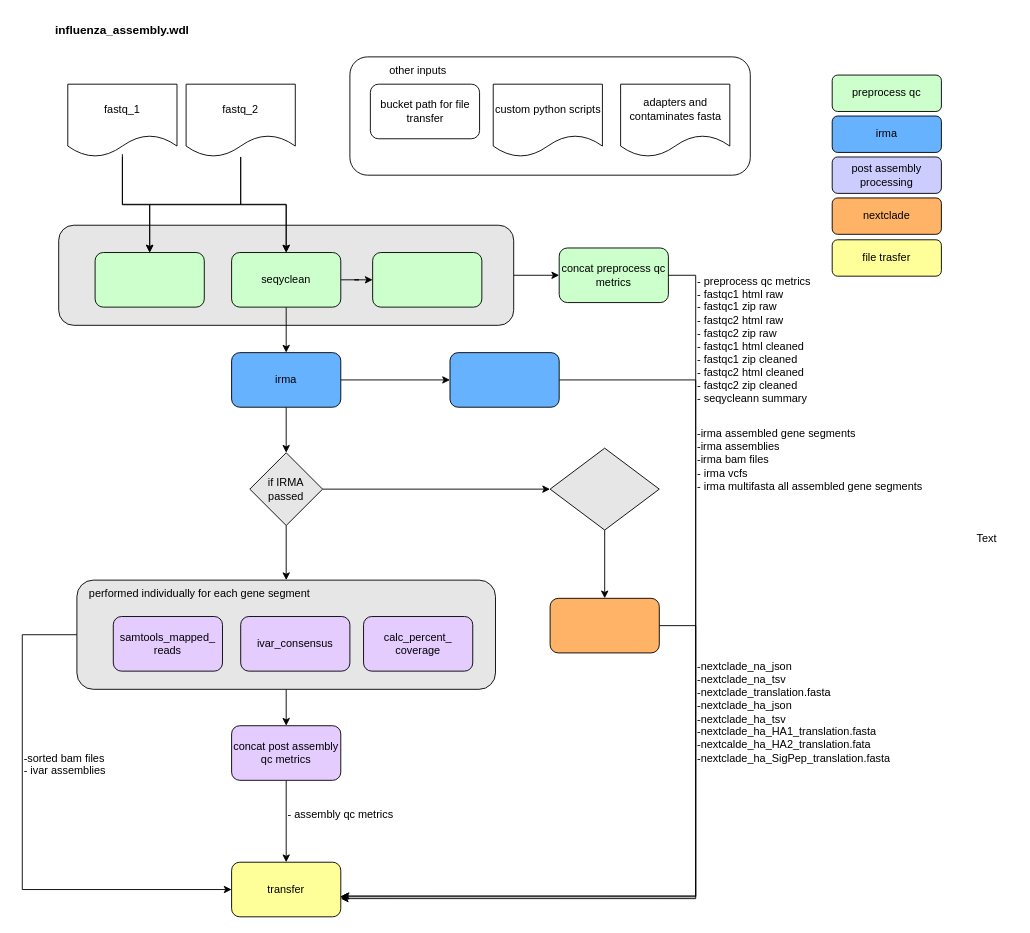
Image size: 1030x933. Some labels were removed from this diagram. Each missing label, with the box of its shape:
fastqc_cleaned: (372, 252, 482, 307)
fastqc_raw: (94, 252, 204, 307)
if HA or NA gene segment: (549, 447, 659, 530)
irma_subtyping_ results: (449, 352, 559, 407)
nextclade_ha/ nextclade_na: (549, 597, 659, 653)
